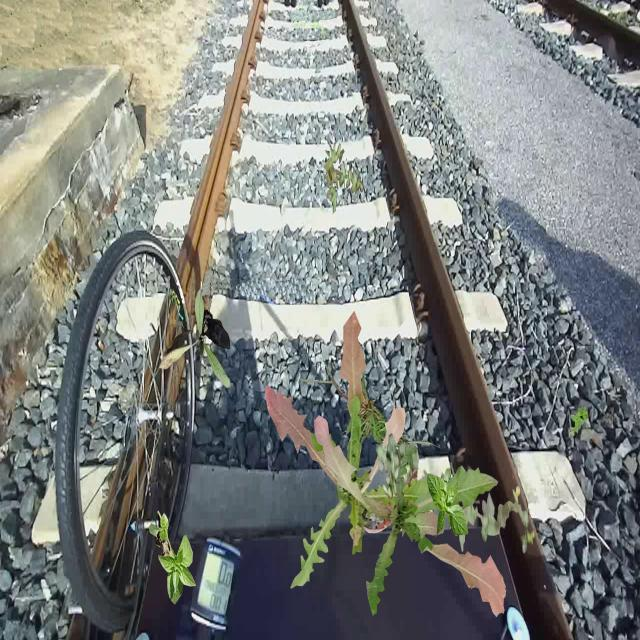Plant: (265, 311, 445, 589), (314, 415, 506, 618), (299, 348, 442, 468), (159, 289, 230, 388), (448, 485, 534, 554), (149, 510, 197, 605), (323, 142, 364, 213), (427, 467, 468, 538), (376, 433, 419, 500), (569, 404, 588, 436)
